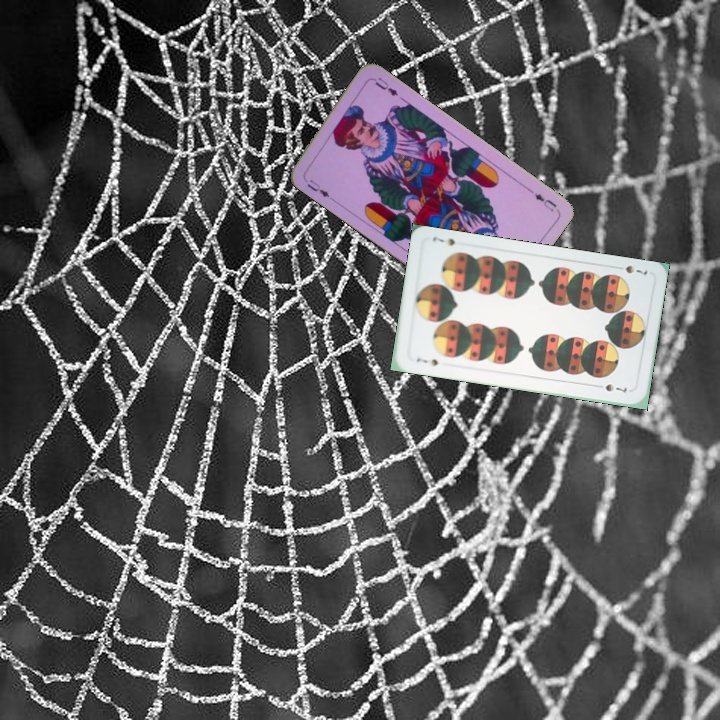EU: (299, 173, 335, 202), (530, 189, 559, 214)
S7: (611, 261, 650, 277), (412, 354, 441, 368)
